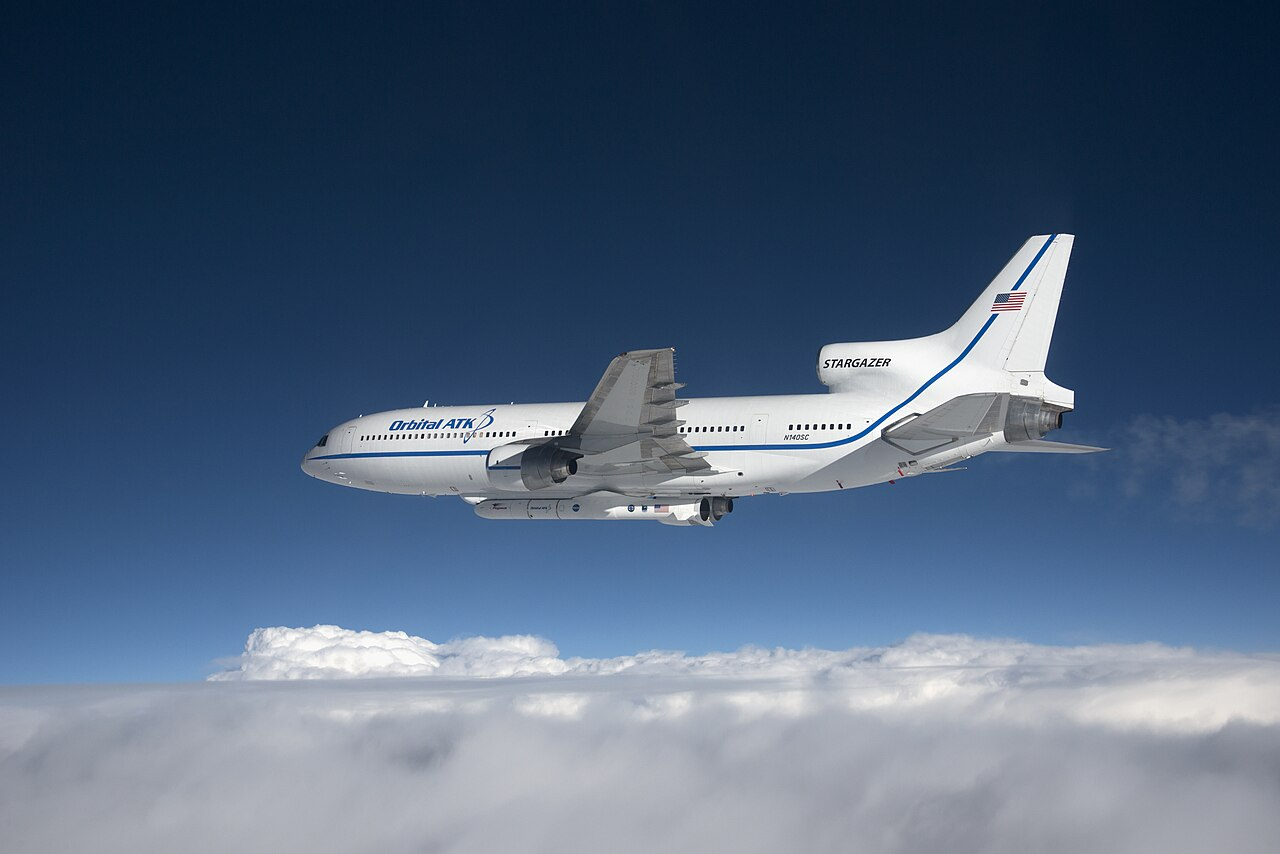aircraft: (297, 232, 1111, 541)
